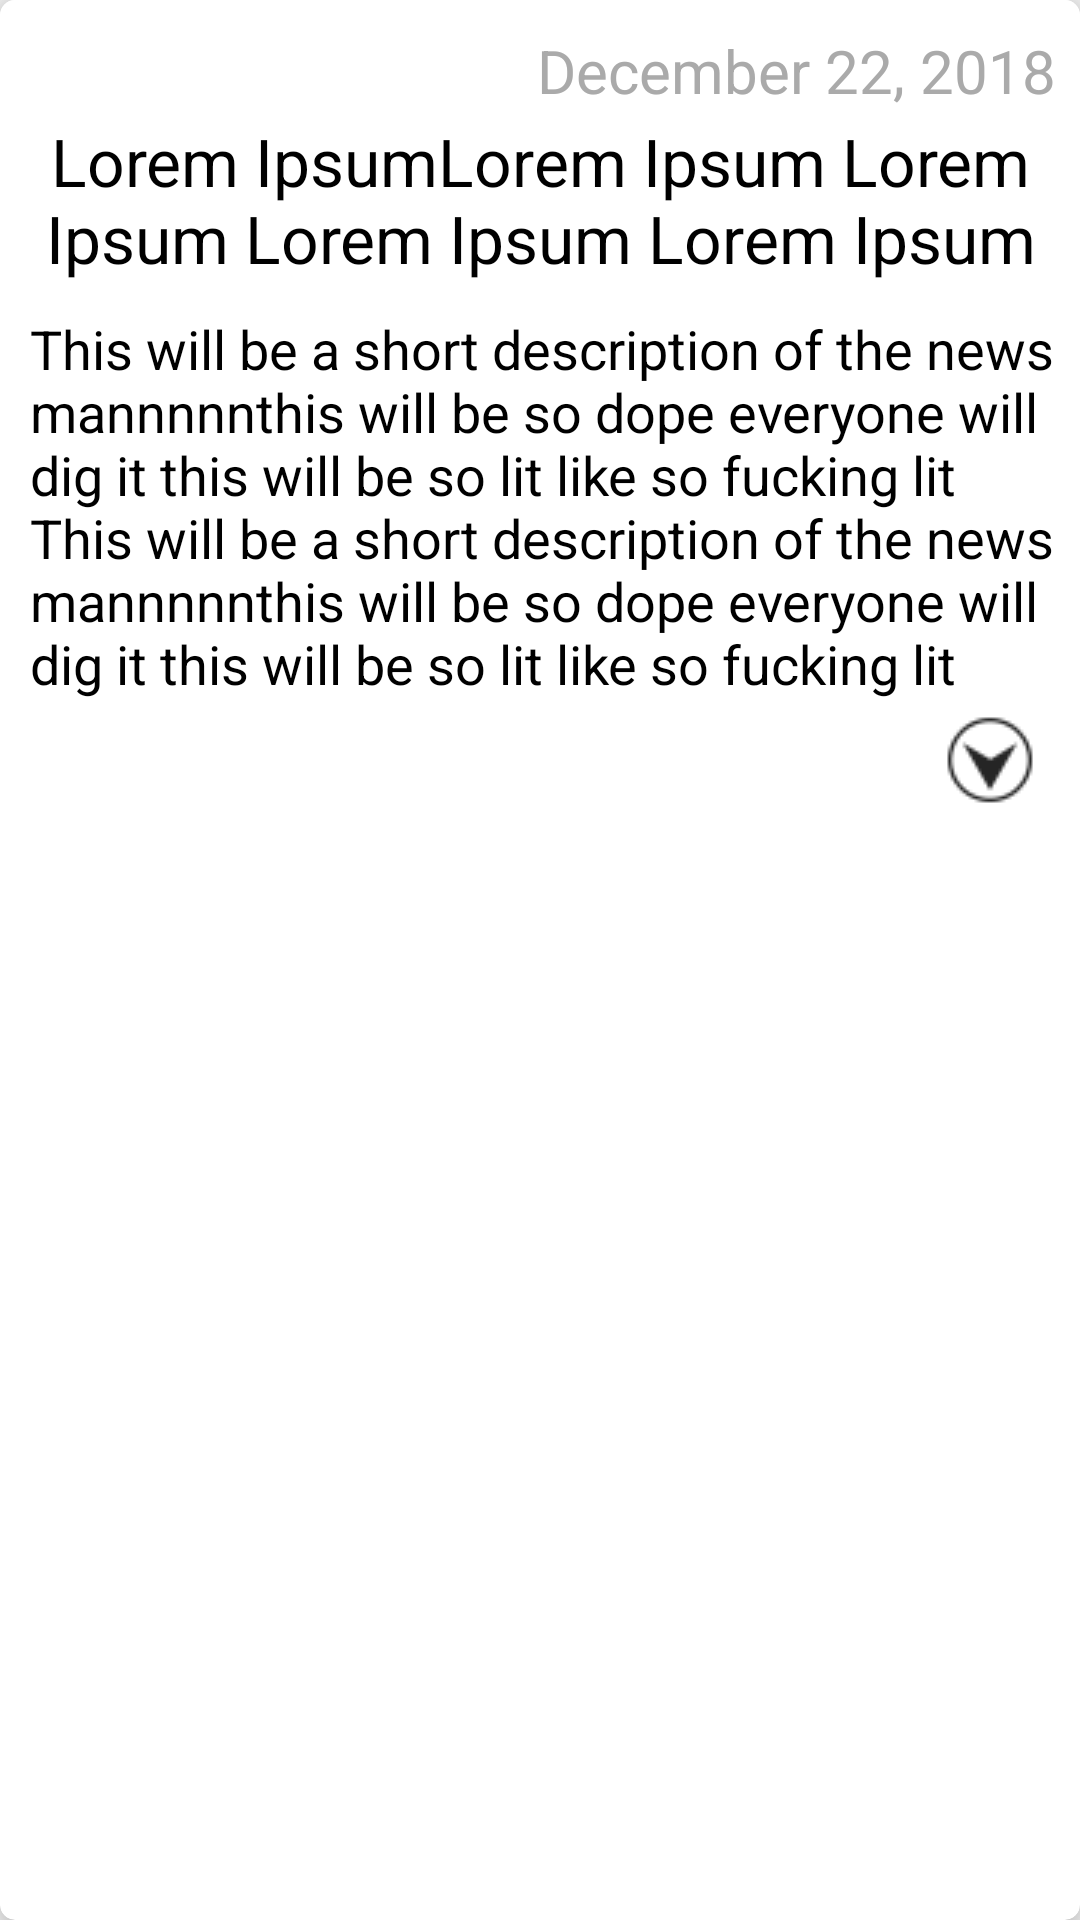

Icons on this 1080w x 1920h Android screen, each with the point to tap as (x=x, y=y):
expand: (x=990, y=760)
